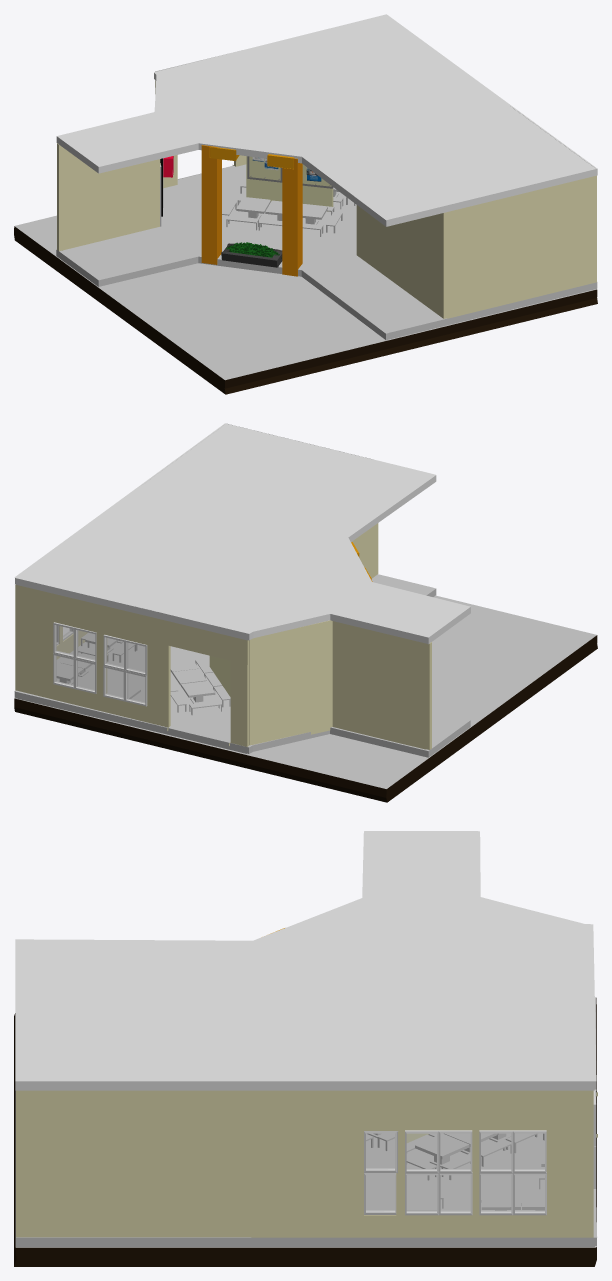
The picture shows the model from 3 angles, top to bottom: view 1: azimuth 30°, elevation 25°; view 2: azimuth 150°, elevation 25°; view 3: azimuth 270°, elevation 25°; orthographic projection. The views are drawn at different scales.
Parts seen in each view (by area): view 1: Floor.002, Plane.001, Floor.001, Cube.001, Cube.013, Cube.011, Cube.016, Cube.025, tembok pembatas, Cube.024, Cube.015, Table.006; view 2: Floor.002, Plane.001, Cube.011, Cube.013, Floor.001, Cube.014, Cube.020, Cube.019, Cube.012, tembok pembatas, Table.003; view 3: Floor.002, Cube.011, Cube.001, Plane.001, Floor.001, Cube.017, Cube.018, windows.005, Table.001, Table.004.
Boxes of the visible parts, bbox=[...] form: Floor.002: bbox=[56, 14, 597, 226]; Plane.001: bbox=[14, 215, 597, 394]; Floor.001: bbox=[56, 164, 597, 340]; Cube.001: bbox=[447, 175, 596, 318]; Cube.013: bbox=[57, 143, 159, 251]; Cube.011: bbox=[155, 80, 443, 318]; Cube.016: bbox=[201, 145, 221, 264]; Cube.025: bbox=[282, 158, 302, 276]; tembok pembatas: bbox=[246, 156, 333, 211]; Cube.024: bbox=[221, 243, 282, 267]; Cube.015: bbox=[443, 212, 447, 318]; Table.006: bbox=[236, 197, 270, 218]; Floor.002: bbox=[14, 423, 470, 644]; Plane.001: bbox=[14, 595, 597, 802]; Cube.011: bbox=[15, 523, 378, 730]; Cube.013: bbox=[332, 621, 431, 749]; Floor.001: bbox=[14, 574, 470, 757]; Cube.014: bbox=[249, 620, 332, 745]; Cube.020: bbox=[103, 634, 147, 706]; Cube.019: bbox=[53, 622, 96, 693]; Cube.012: bbox=[229, 661, 249, 746]; tembok pembatas: bbox=[209, 656, 230, 696]; Table.003: bbox=[181, 681, 215, 703]; Floor.002: bbox=[15, 831, 596, 1090]; Cube.011: bbox=[251, 1090, 597, 1237]; Cube.001: bbox=[16, 1090, 251, 1237]; Plane.001: bbox=[14, 997, 596, 1266]; Floor.001: bbox=[16, 1133, 597, 1246]; Cube.017: bbox=[479, 1130, 546, 1215]; Cube.018: bbox=[405, 1130, 472, 1215]; windows.005: bbox=[364, 1131, 398, 1214]; Table.001: bbox=[415, 1133, 469, 1167]; Table.004: bbox=[481, 1191, 520, 1210].
Size of what is drawn, in the model's own units: 118 by 40.78 by 116.
